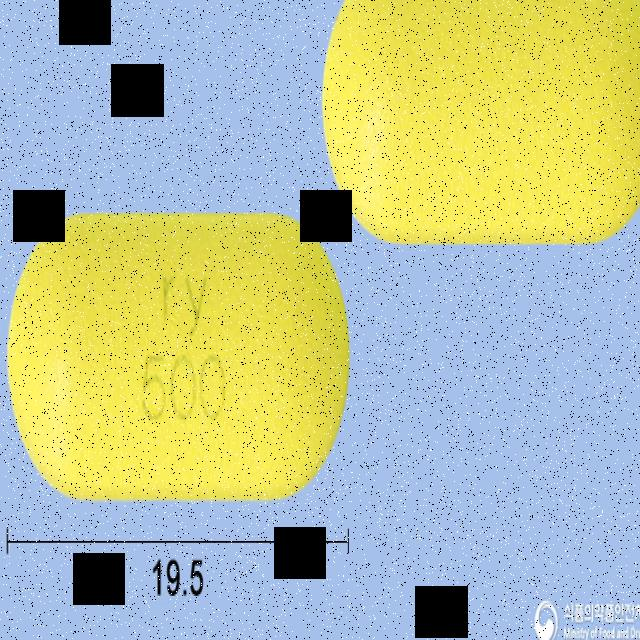Reyon Clarithromycin Tab: (6, 211, 350, 503)
